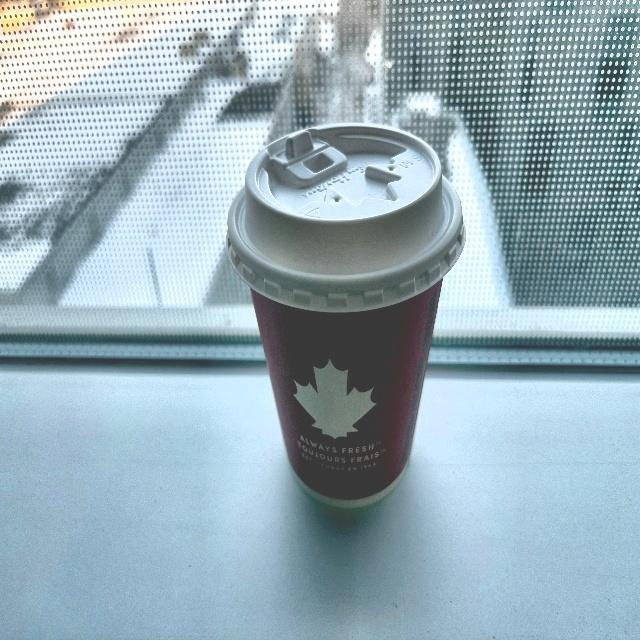timmies: (224, 123, 467, 513)
